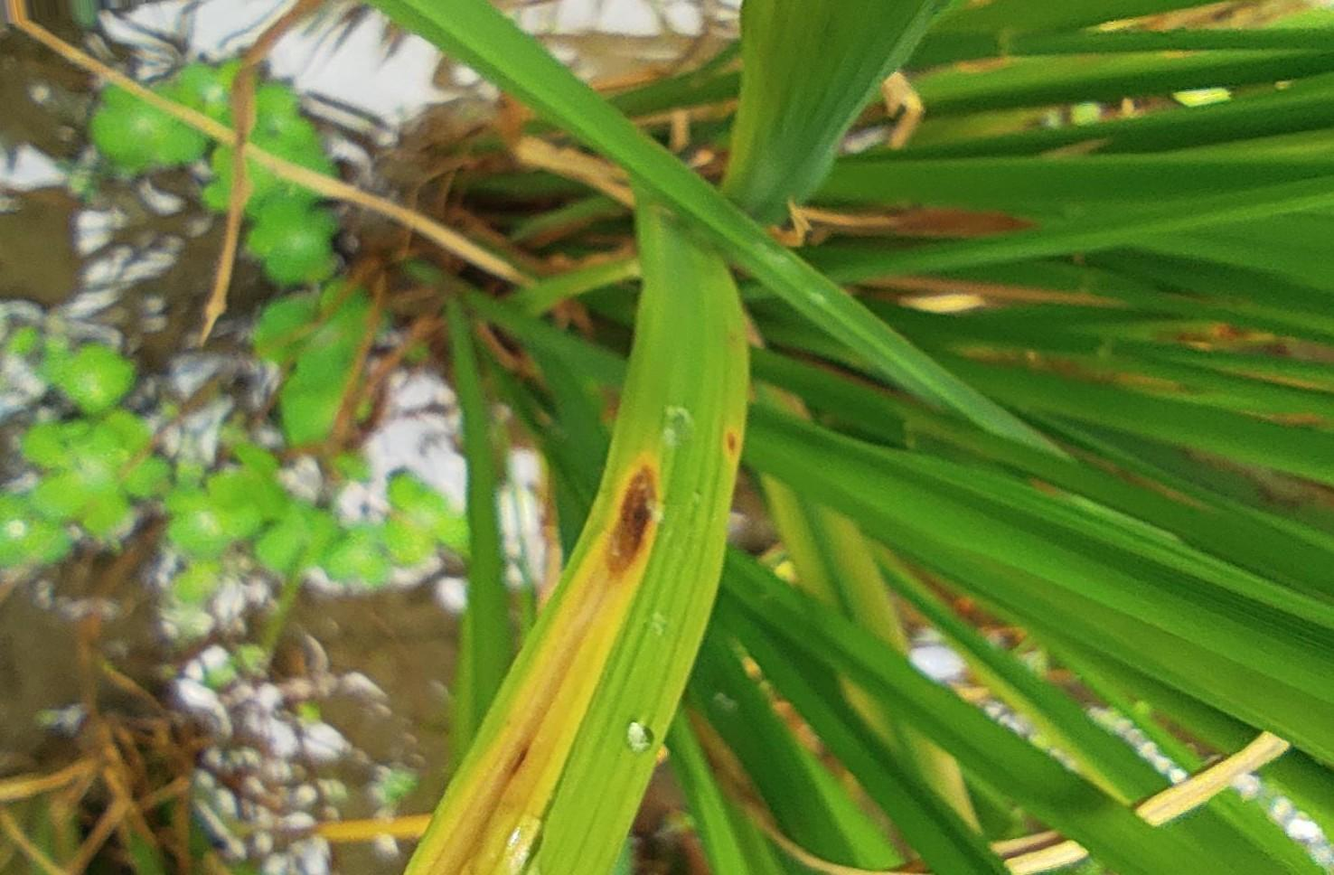LEAF: (405, 183, 748, 874)
NBS: (723, 424, 742, 465), (508, 745, 529, 779), (724, 324, 745, 351)
